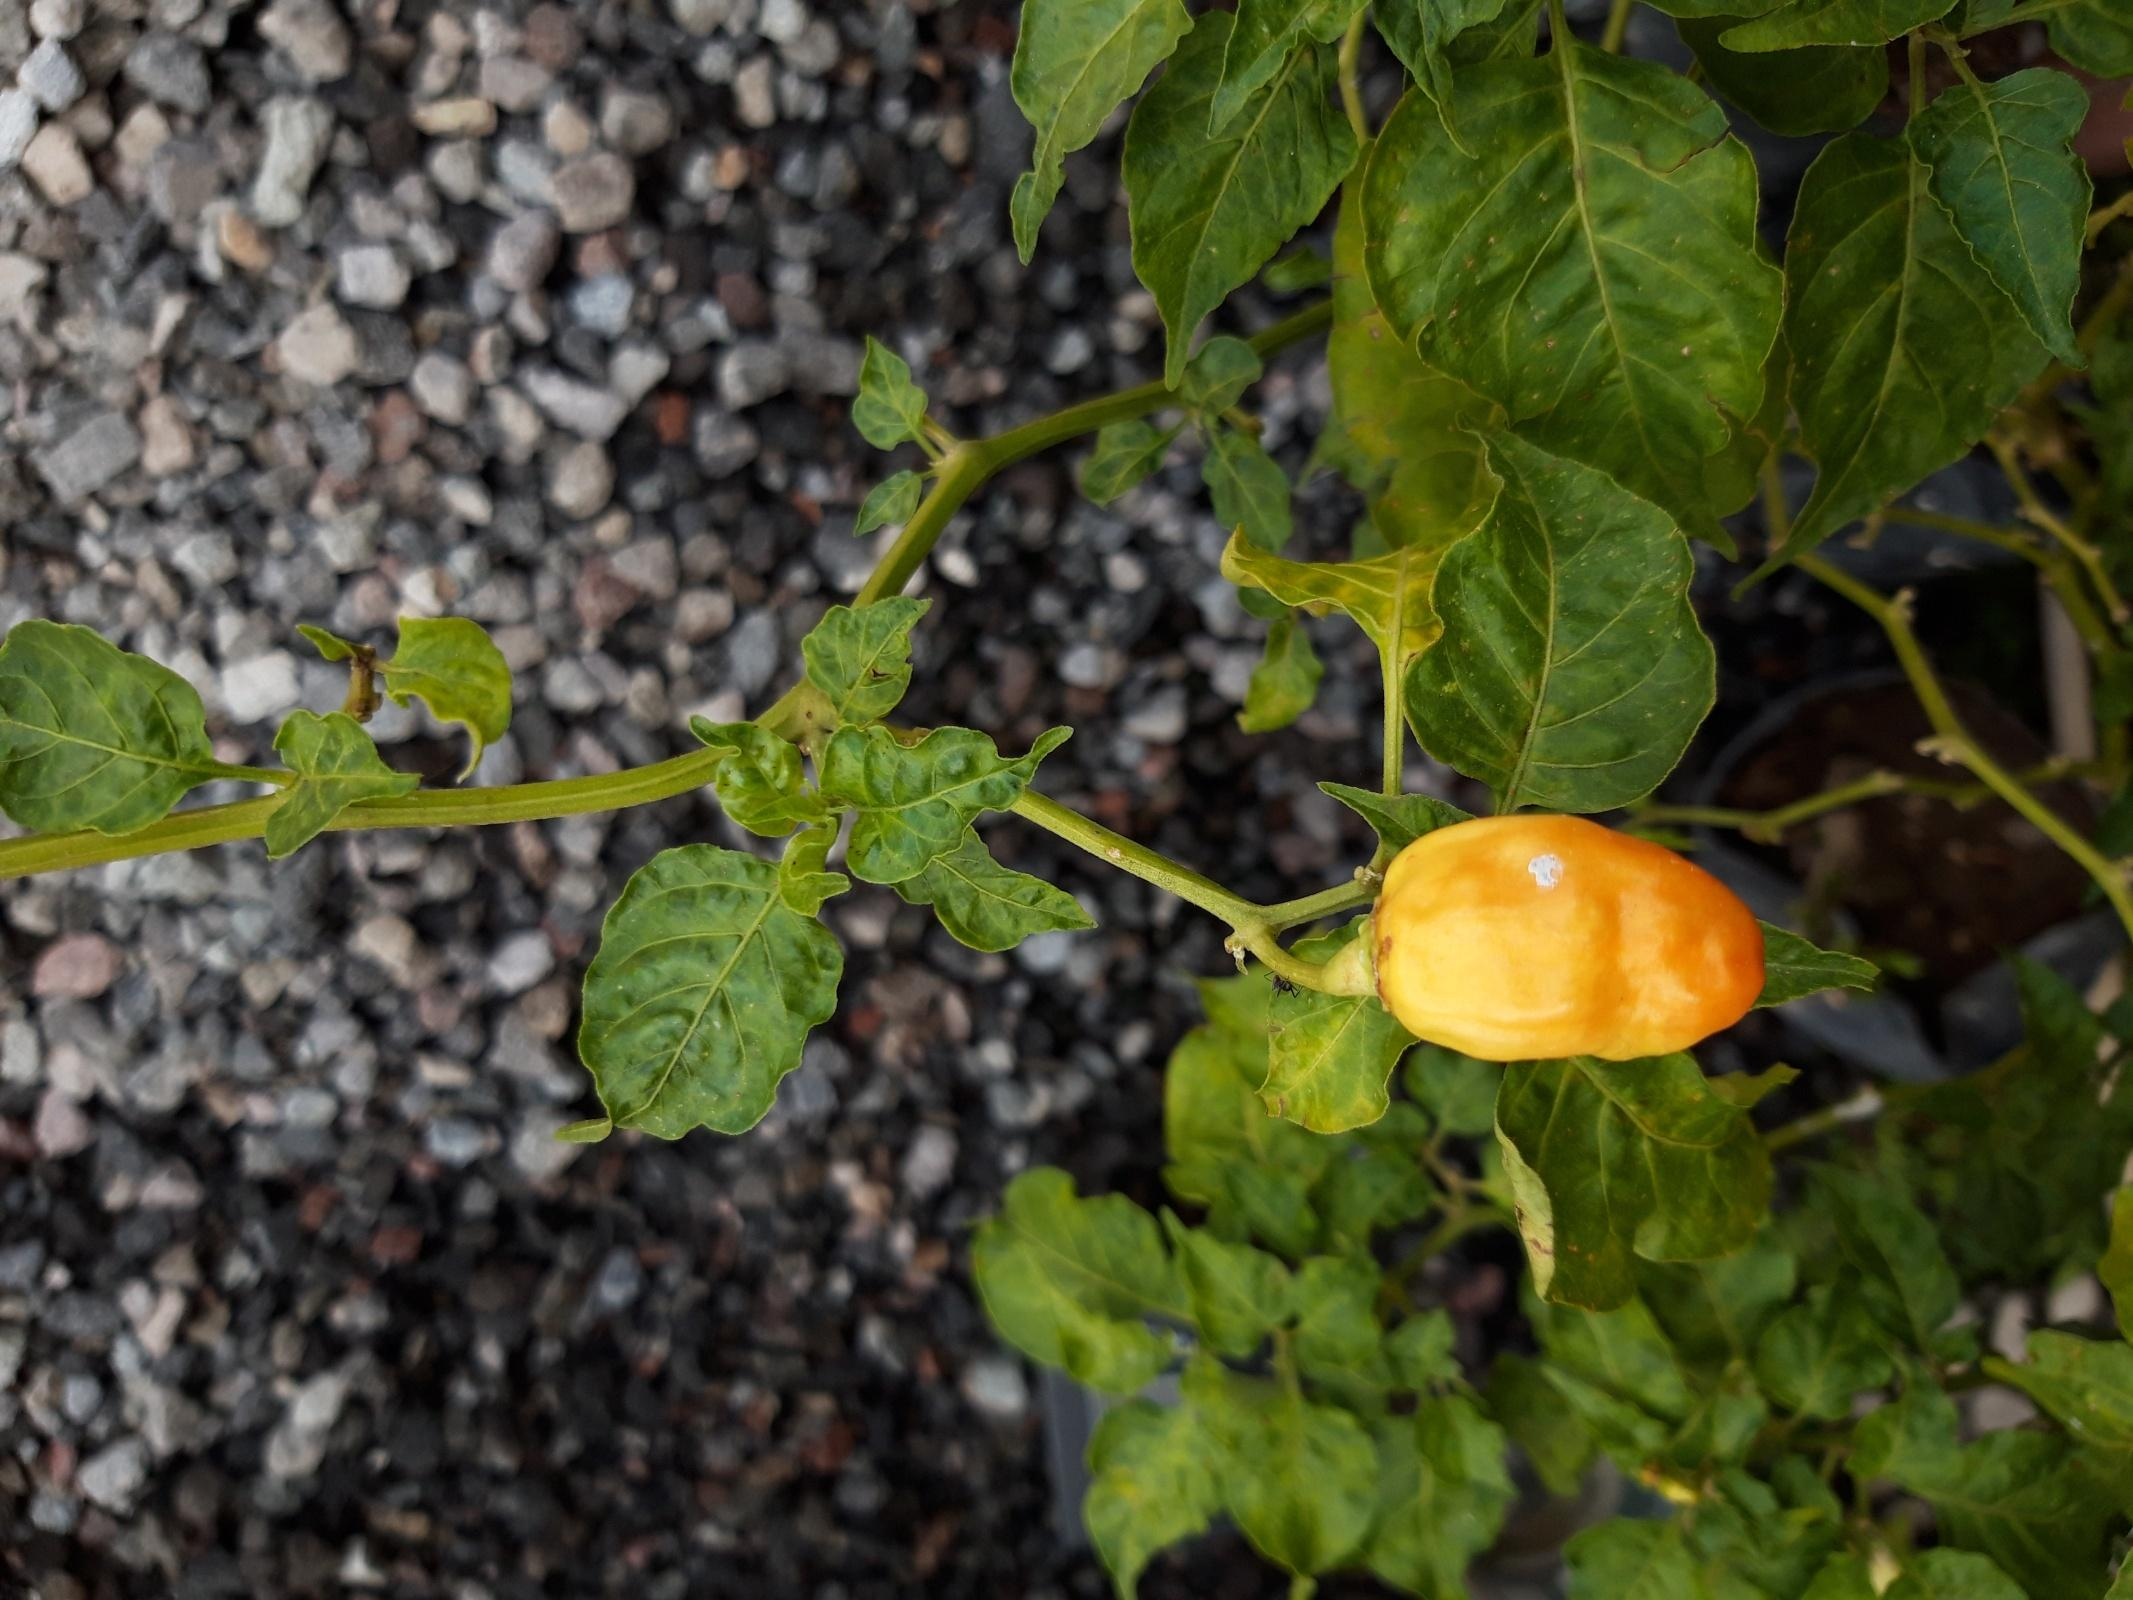cabai_normal: (1377, 808, 1767, 1061)
